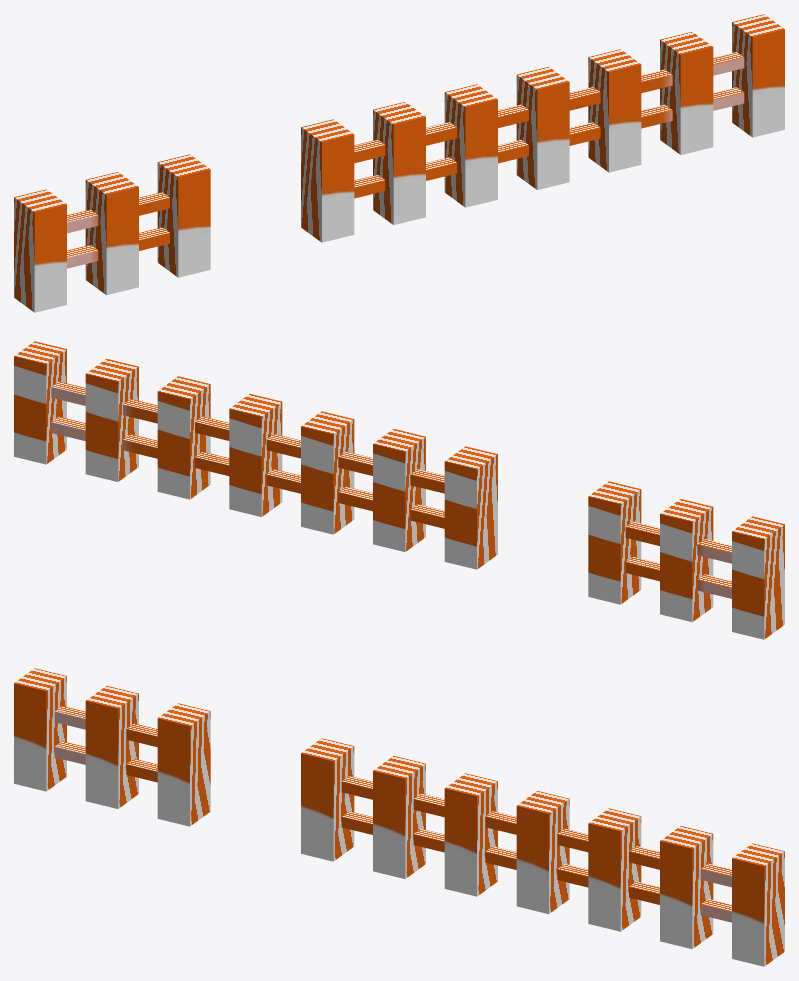
File: Fence6.fbx
3 views of the same model, one above another, from view 1: azimuth 30°, elevation 25°; view 2: azimuth 150°, elevation 25°; view 3: azimuth 330°, elevation 25° (orthographic).
Parts seen in each view (by area): view 1: fence_short_mesh; view 2: fence_short_mesh; view 3: fence_short_mesh.
Part boxes in pixels (left/top/right/bottom): fence_short_mesh: left=14, top=14, right=784, bottom=312; fence_short_mesh: left=14, top=341, right=784, bottom=639; fence_short_mesh: left=14, top=668, right=784, bottom=966.
Bounding box in the file's own units: 836 × 107 × 39.99.
